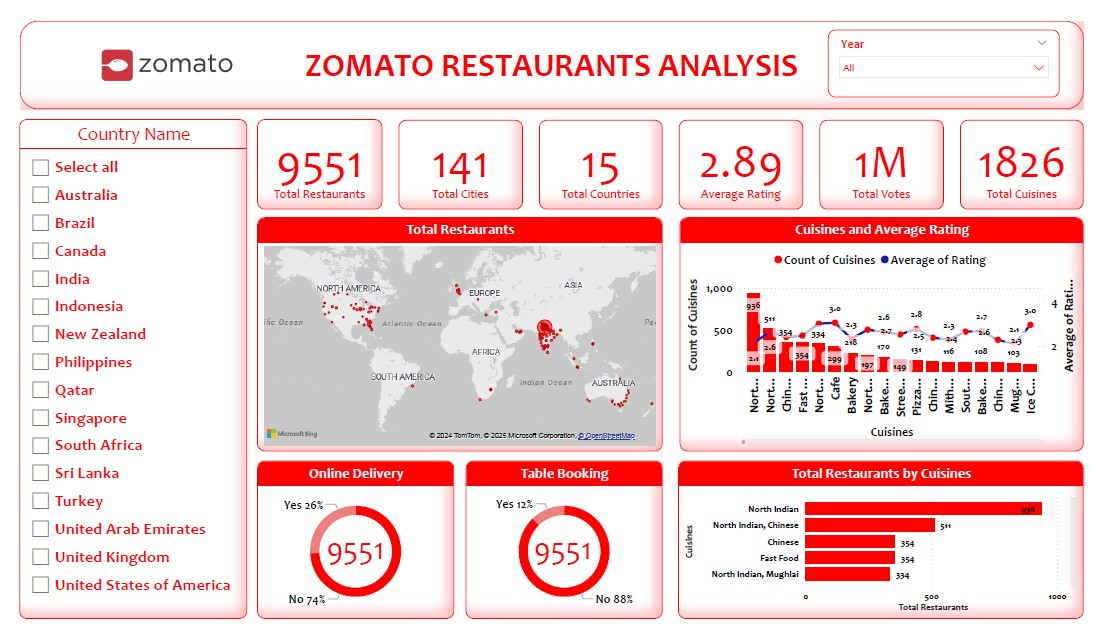

What the dashboard file says about the page in this screenshot:
{"tool":"powerbi","page":{"name":"Page 1","canvas":[1400,800],"ordinal":0},"visuals":[{"type":"textbox","box":[10.8,35.5,1377.6,63.3],"z":1},{"type":"card","fields":{"Values":["Calculated Measures.Total Cuisines"]},"box":[1227.8,139,160.6,115.8],"z":2},{"type":"image","box":[10.8,10.8,383,114.3],"z":3},{"type":"card","fields":{"Values":["Calculated Measures.Total Votes"]},"box":[1046.1,139,160.6,115.8],"z":4},{"type":"card","fields":{"Values":["Calculated Measures.Average Rating"]},"box":[864.4,139,160.6,115.8],"z":5},{"type":"card","fields":{"Values":["Calculated Measures.Total Countries"]},"box":[682.7,139,160.6,115.8],"z":6},{"type":"card","fields":{"Values":["Calculated Measures.Total Cities"]},"box":[501.1,139,160.6,115.8],"z":7},{"type":"card","fields":{"Values":["Calculated Measures.Total Restaurants"]},"box":[318.3,138.3,161.7,116.7],"z":8},{"type":"shape","box":[10.8,10.8,1377.6,114.3],"z":9},{"type":"slicer","title":"Country Name","fields":{"Values":["Country.country name"]},"box":[10,138.3,295,646.7],"z":10},{"type":"lineStackedColumnComboChart","title":"Cuisines and Average Rating","fields":{"Y2":["Avg(Restaurants.Rating)"],"Category":["Restaurants.Cuisines"],"Y":["CountNonNull(Restaurants.Cuisines)"]},"box":[865,265,523.3,303.3],"z":11},{"type":"map","title":"Total Restaurants","fields":{"Category":["Restaurants.City"],"Size":["Calculated Measures.Total Restaurants"]},"box":[318.3,265,525,303.3],"z":12},{"type":"clusteredBarChart","fields":{"Category":["Restaurants.Cuisines"],"Y":["Calculated Measures.Total Restaurants"]},"box":[863.3,580,525,205],"z":13},{"type":"donutChart","title":"Online Delivery","fields":{"Category":["Restaurants.Has_Online_delivery"],"Y":["Calculated Measures.Total Restaurants"]},"box":[318.3,580,255,205],"z":14},{"type":"card","fields":{"Values":["Calculated Measures.Total Restaurants"]},"box":[371.7,628.3,146.7,126.7],"z":15},{"type":"donutChart","title":"Table Booking","fields":{"Y":["Calculated Measures.Total Restaurants"],"Category":["Restaurants.Has_Table_booking"]},"box":[588.3,580,255,205],"z":16},{"type":"card","fields":{"Values":["Calculated Measures.Total Restaurants"]},"box":[640,628.3,146.7,126.7],"z":17},{"type":"slicer","fields":{"Values":["Restaurants.Datekey_Opening.Variation.Date Hierarchy.Year"]},"box":[1056.7,21.7,300,88.3],"z":18}]}

Visuals, with their boxes in screenshot pixels (x1, y1, x2, y2), scaled from the page's 1400x800 canvas onto the 1101x635 screenshot:
textbox: [8,28,1092,78]
card - Calculated Measures.Total Cuisines: [966,110,1092,202]
image: [8,9,310,99]
card - Calculated Measures.Total Votes: [823,110,949,202]
card - Calculated Measures.Average Rating: [680,110,806,202]
card - Calculated Measures.Total Countries: [537,110,663,202]
card - Calculated Measures.Total Cities: [394,110,520,202]
card - Calculated Measures.Total Restaurants: [250,110,377,202]
shape: [8,9,1092,99]
"Country Name" slicer: [8,110,240,623]
"Cuisines and Average Rating" lineStackedColumnComboChart: [680,210,1092,451]
"Total Restaurants" map: [250,210,663,451]
clusteredBarChart - Restaurants.Cuisines x Calculated Measures.Total Restaurants: [679,460,1092,623]
"Online Delivery" donutChart: [250,460,451,623]
card - Calculated Measures.Total Restaurants: [292,499,408,599]
"Table Booking" donutChart: [463,460,663,623]
card - Calculated Measures.Total Restaurants: [503,499,619,599]
slicer - Restaurants.Datekey_Opening.Variation.Date Hierarchy.Year: [831,17,1067,87]
